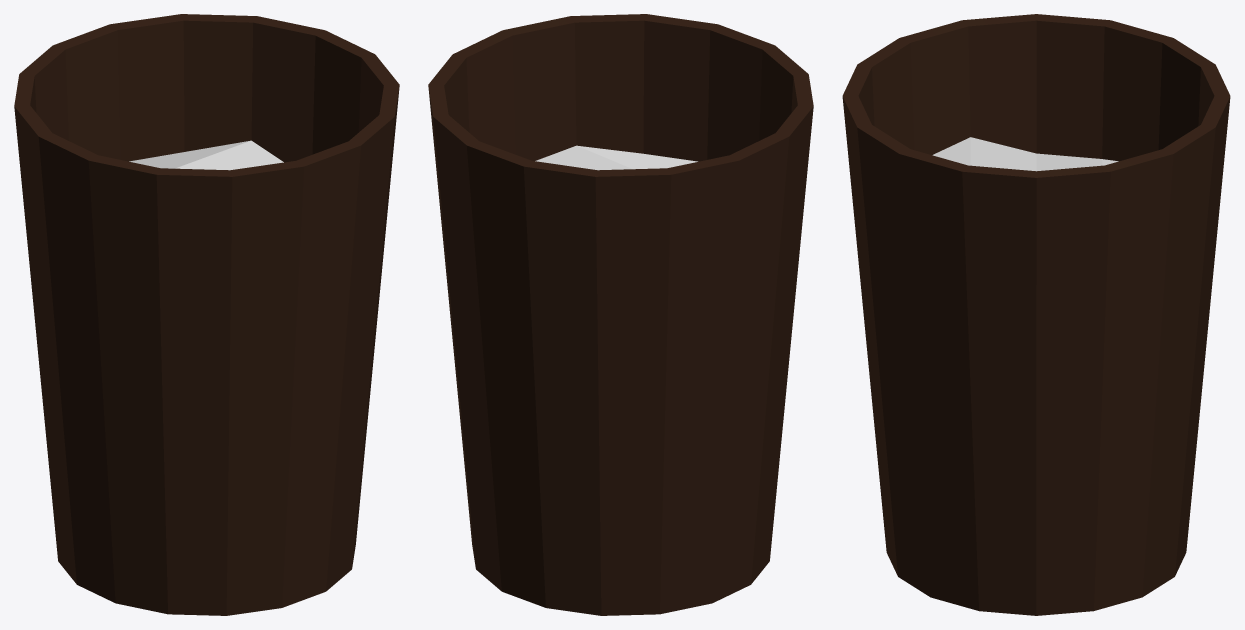
File: Cup1.fbx
The picture shows the model from 3 angles, left to right: view 1: azimuth 30°, elevation 25°; view 2: azimuth 150°, elevation 25°; view 3: azimuth 270°, elevation 25°; orthographic projection.
Visible parts, largest first — view 1: Cylinder; view 2: Cylinder; view 3: Cylinder.
Part boxes in pixels (bbox=[...]): Cylinder: bbox=[14, 14, 399, 615]; Cylinder: bbox=[428, 14, 813, 615]; Cylinder: bbox=[842, 14, 1230, 615].
Size of the model in its own units: 223 by 290 by 223.
